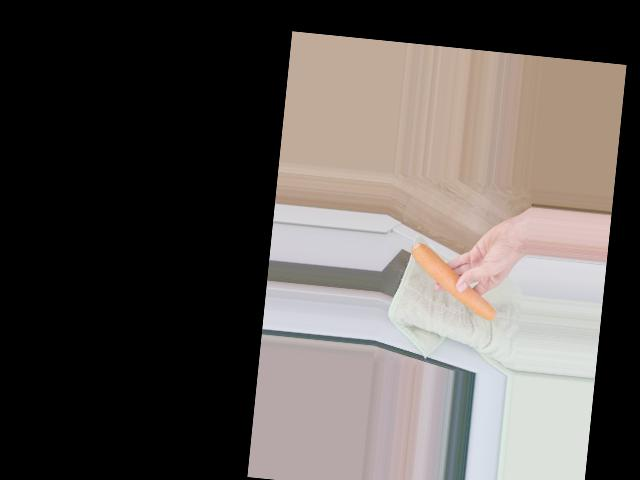carrot: (404, 240, 503, 322)
